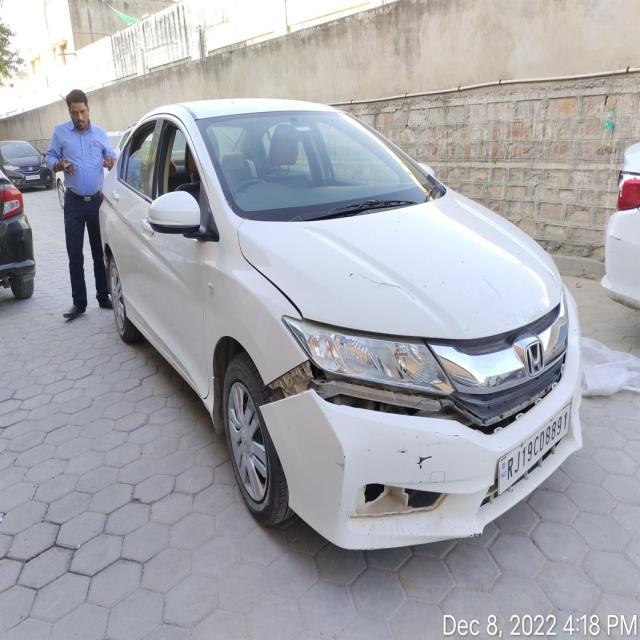damage: (269, 353, 565, 435), (418, 455, 434, 469)
